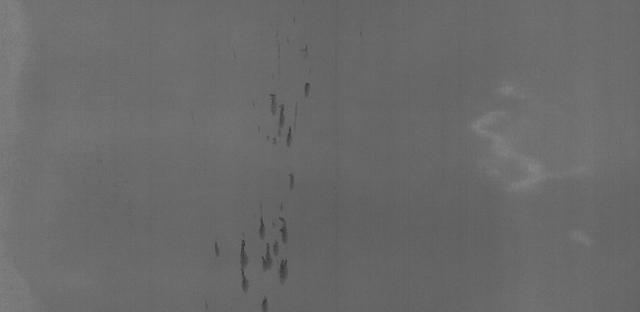oil_spot: (213, 211, 298, 306), (258, 67, 313, 146), (284, 168, 300, 193)
